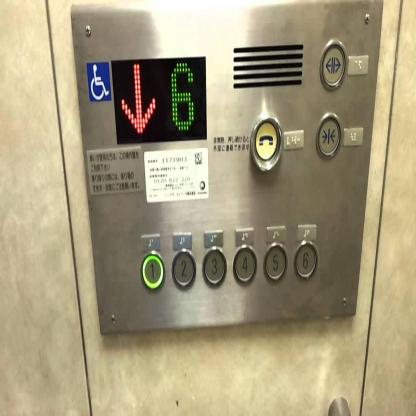1: (139, 248, 167, 292)
2: (170, 248, 197, 293)
3: (201, 245, 227, 289)
4: (231, 244, 257, 286)
5: (262, 242, 288, 284)
6: (293, 239, 318, 280)
CH: (85, 60, 112, 105)
call: (250, 112, 284, 172)
close: (314, 110, 342, 160)
led: (109, 54, 209, 148)
open: (317, 37, 348, 93)
